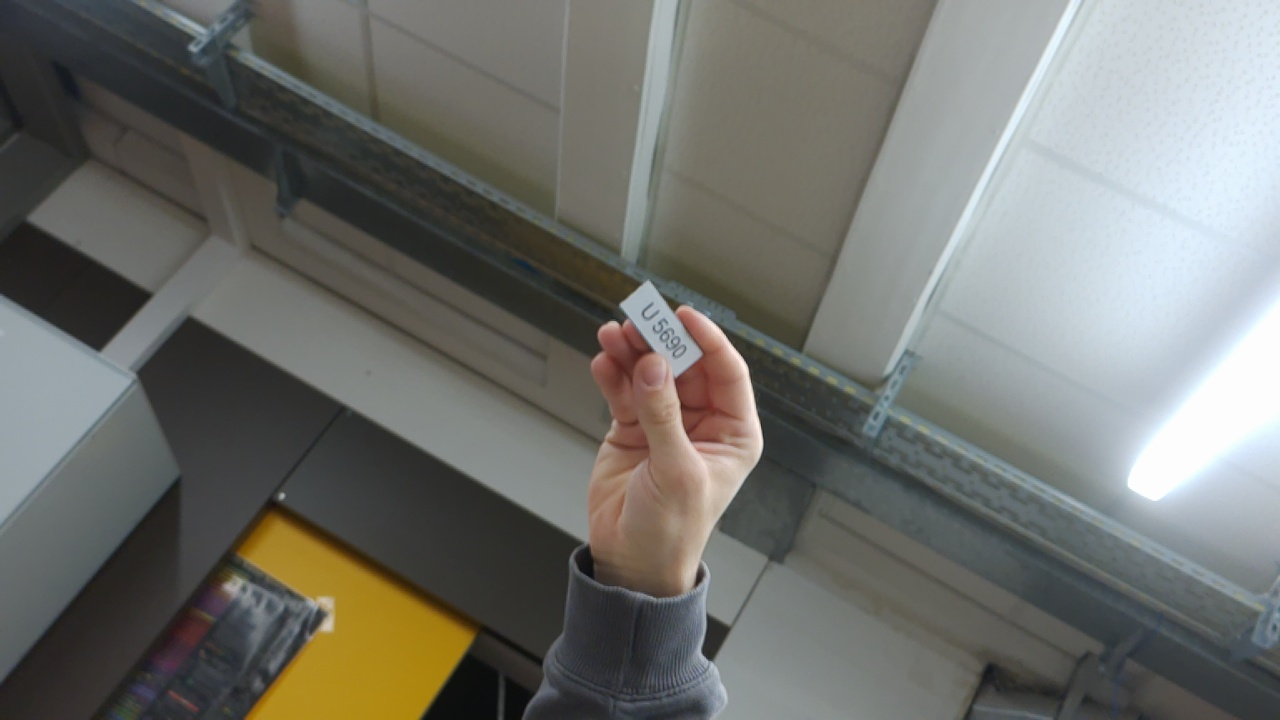license_plate: (609, 271, 709, 380)
